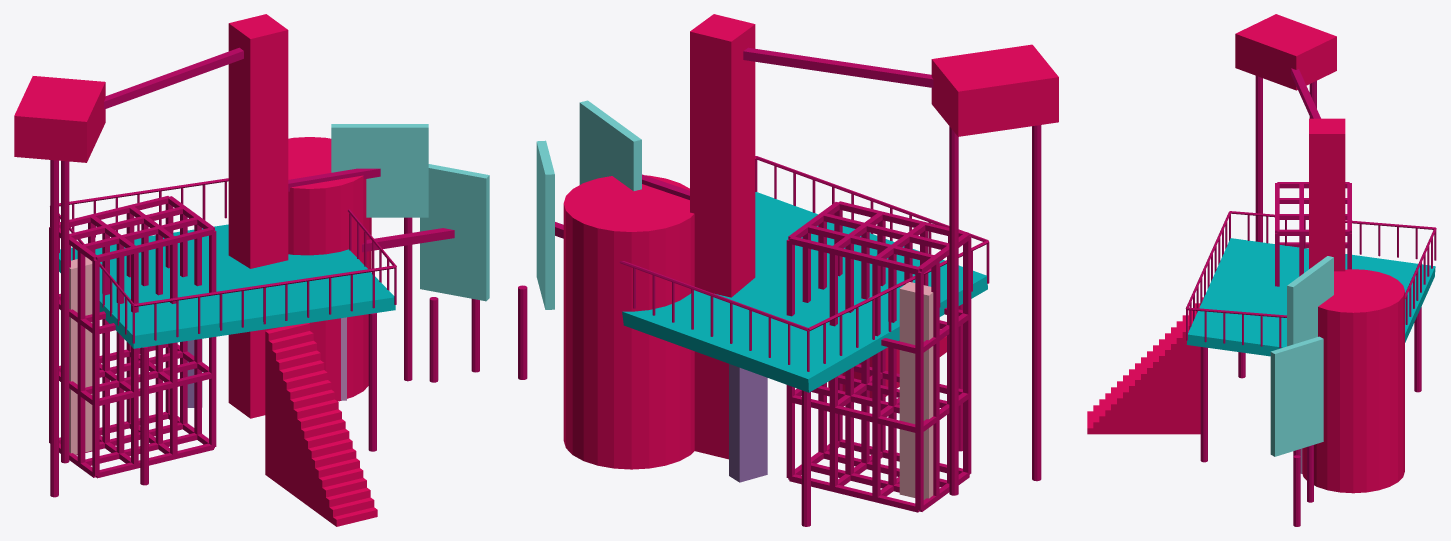
The model's file is folie_tag_003.glb.
3 views of the same model, side by side, from view 1: azimuth 30°, elevation 25°; view 2: azimuth 150°, elevation 25°; view 3: azimuth 270°, elevation 25° (orthographic). The views are drawn at different scales.
Parts seen in each view (by area): view 1: folie_tag_003_02_cage, folie_tag_003_line, folie_tag_003_00_plate, folie_tag_003_core, folie_tag_003_stairs, folie_tag_003_01_drum, folie_tag_003_06_panel, folie_tag_003_05_panel, folie_tag_003_03_block, folie_tag_003_04_fin; view 2: folie_tag_003_01_drum, folie_tag_003_02_cage, folie_tag_003_00_plate, folie_tag_003_core, folie_tag_003_line, folie_tag_003_03_block, folie_tag_003_04_fin, folie_tag_003_07_fin, folie_tag_003_05_panel, folie_tag_003_06_panel; view 3: folie_tag_003_01_drum, folie_tag_003_00_plate, folie_tag_003_line, folie_tag_003_stairs, folie_tag_003_06_panel, folie_tag_003_03_block, folie_tag_003_core, folie_tag_003_05_panel, folie_tag_003_02_cage.
Boxes of the visible parts, x1,y1,x2,y2 form: folie_tag_003_02_cage: [49, 196, 216, 478]; folie_tag_003_line: [50, 47, 479, 497]; folie_tag_003_00_plate: [59, 224, 395, 348]; folie_tag_003_core: [228, 14, 288, 418]; folie_tag_003_stairs: [265, 323, 377, 526]; folie_tag_003_01_drum: [288, 137, 371, 401]; folie_tag_003_06_panel: [420, 164, 489, 301]; folie_tag_003_05_panel: [331, 124, 428, 217]; folie_tag_003_03_block: [14, 76, 105, 162]; folie_tag_003_04_fin: [69, 257, 92, 454]; folie_tag_003_01_drum: [563, 175, 694, 469]; folie_tag_003_02_cage: [786, 201, 971, 512]; folie_tag_003_00_plate: [622, 192, 987, 392]; folie_tag_003_core: [690, 14, 755, 459]; folie_tag_003_line: [518, 47, 1041, 526]; folie_tag_003_03_block: [931, 44, 1058, 136]; folie_tag_003_04_fin: [899, 282, 933, 499]; folie_tag_003_07_fin: [729, 364, 767, 482]; folie_tag_003_05_panel: [579, 100, 641, 191]; folie_tag_003_06_panel: [536, 140, 554, 309]; folie_tag_003_01_drum: [1302, 269, 1404, 493]; folie_tag_003_00_plate: [1186, 238, 1435, 356]; folie_tag_003_line: [1185, 68, 1436, 526]; folie_tag_003_stairs: [1087, 297, 1203, 434]; folie_tag_003_06_panel: [1270, 336, 1323, 456]; folie_tag_003_03_block: [1235, 14, 1336, 90]; folie_tag_003_core: [1309, 118, 1345, 271]; folie_tag_003_05_panel: [1287, 256, 1333, 346]; folie_tag_003_02_cage: [1275, 182, 1351, 286].
Size of the model in its own units: 13.92 by 10.64 by 10.53.
